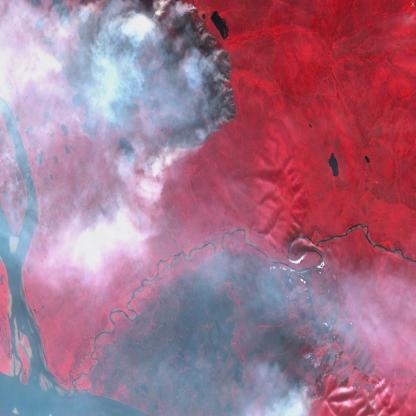fire: (81, 0, 242, 171)
